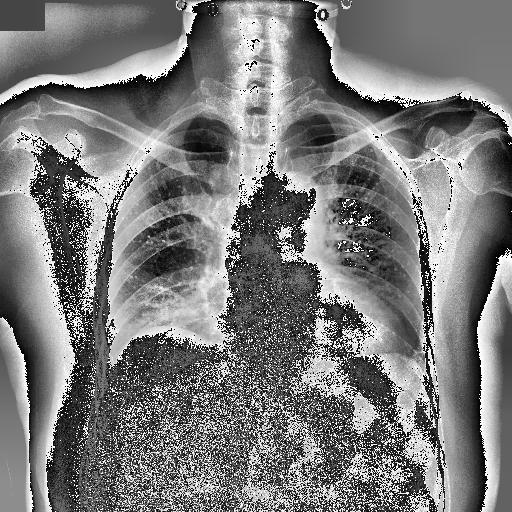0- Aortic enlargement: (263, 172, 323, 230), (276, 170, 324, 236), (270, 170, 322, 222)
3- Cardiomegaly: (209, 288, 396, 370), (214, 290, 407, 356), (206, 304, 412, 353)
